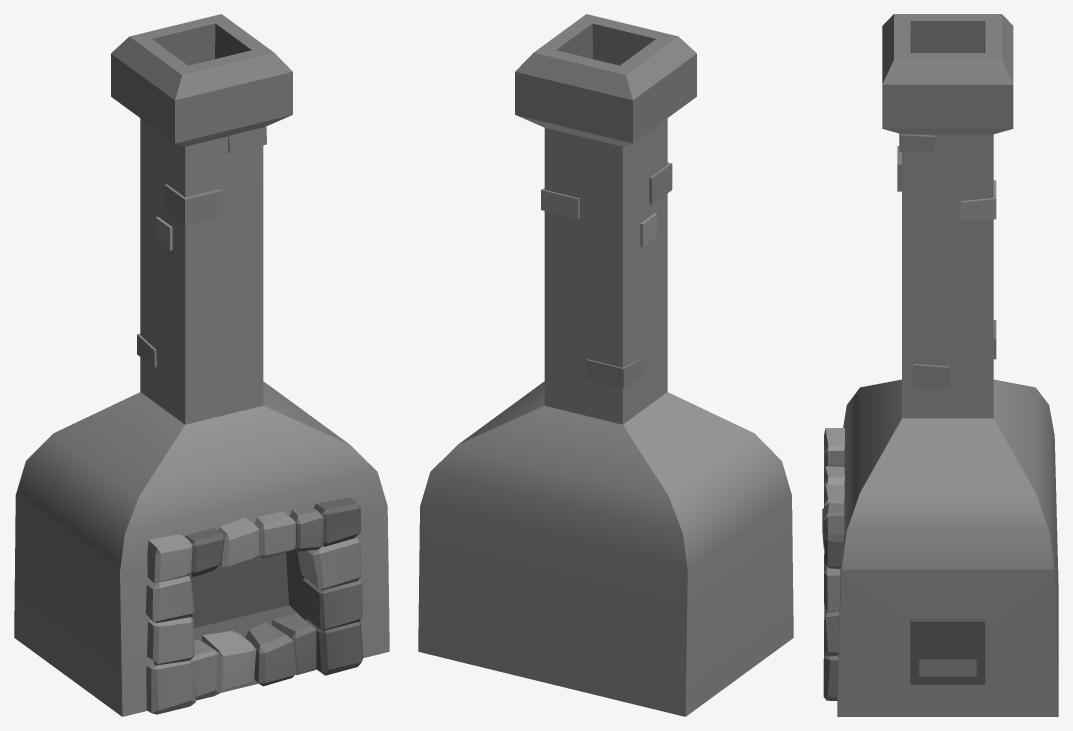
File: Chimney.fbx
3 renders of one model, left to right at view 1: azimuth 30°, elevation 25°; view 2: azimuth 150°, elevation 25°; view 3: azimuth 270°, elevation 25°, orthographic. The views are drawn at different scales.
Visible parts, largest first — view 1: Chimney; view 2: Chimney; view 3: Chimney.
Boxes of the visible parts, x1=… form: Chimney: x1=14, y1=14, x2=389, y2=716; Chimney: x1=418, y1=14, x2=793, y2=716; Chimney: x1=822, y1=14, x2=1058, y2=716.
Size of the model in its own units: 273 by 572 by 198.
